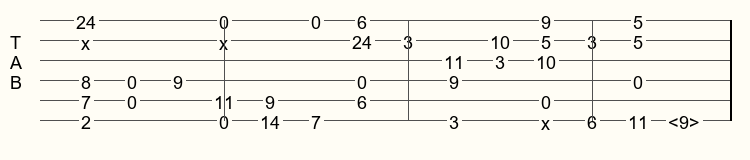0: (127, 72, 141, 89), (127, 92, 141, 109), (219, 12, 233, 29), (219, 112, 233, 129), (311, 12, 325, 29), (357, 72, 371, 89), (541, 92, 555, 109), (633, 72, 647, 89)
10: (490, 32, 514, 49), (536, 52, 560, 69)
11: (214, 92, 238, 109), (444, 52, 468, 69), (628, 112, 652, 129)
14: (260, 112, 284, 129)
2: (81, 112, 95, 129)
24: (76, 12, 100, 29), (352, 32, 376, 49)
3: (403, 32, 417, 49), (449, 112, 463, 129), (495, 52, 509, 69), (587, 32, 601, 49)
5: (541, 32, 555, 49), (633, 12, 647, 29), (633, 32, 647, 49)
6: (357, 92, 371, 109), (357, 12, 371, 29), (587, 112, 601, 129)
7: (81, 92, 95, 109), (311, 112, 325, 129)
8: (81, 72, 95, 89)
9: (173, 72, 187, 89), (265, 92, 279, 109), (449, 72, 463, 89), (541, 12, 555, 29)
harmonic: (668, 112, 704, 129)
x: (81, 33, 94, 47), (219, 33, 232, 47), (541, 113, 554, 127)
